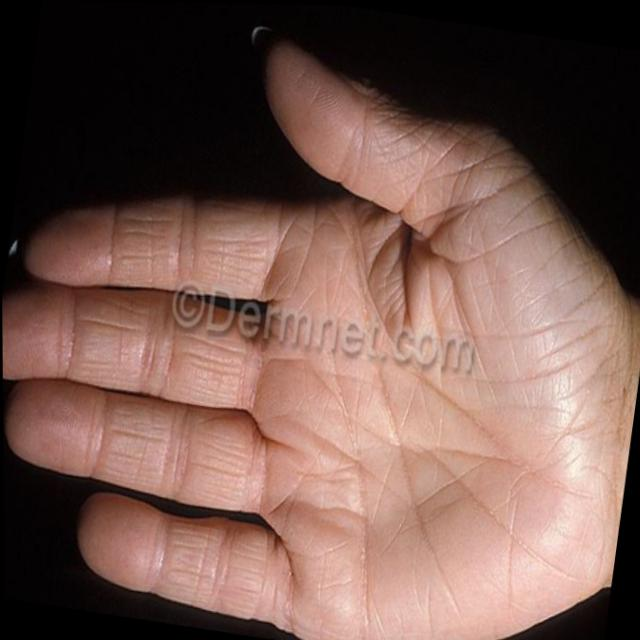liquenificacion 1: (74, 90, 614, 640)
